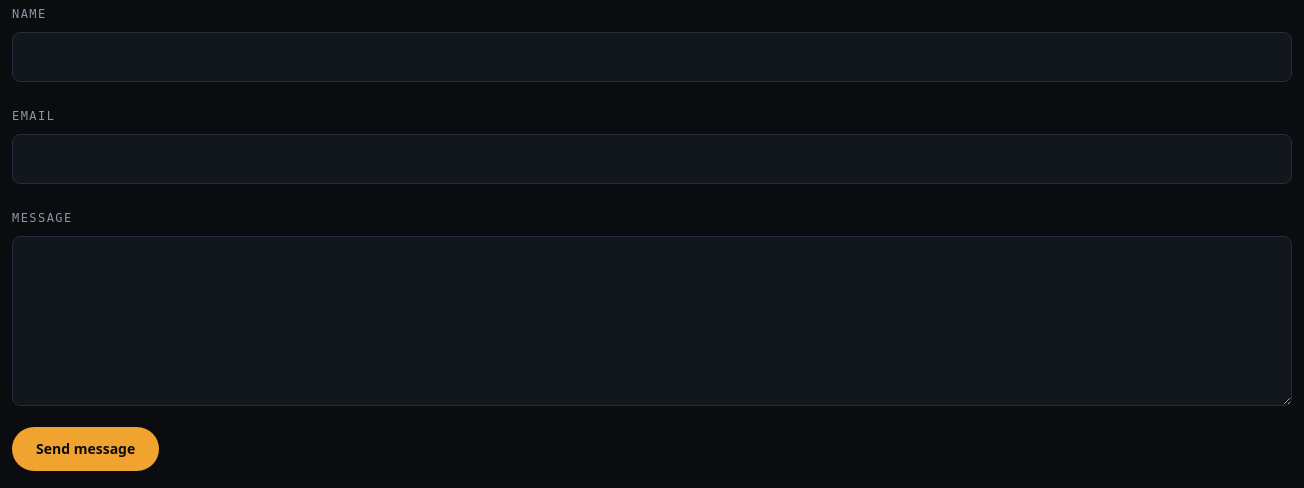
Scenario: ContactForm › sends the filled-in values and shows the success state
Type "Rita Halim" into the field labelled "Name" at (652, 57), box [12,32,1292,82]
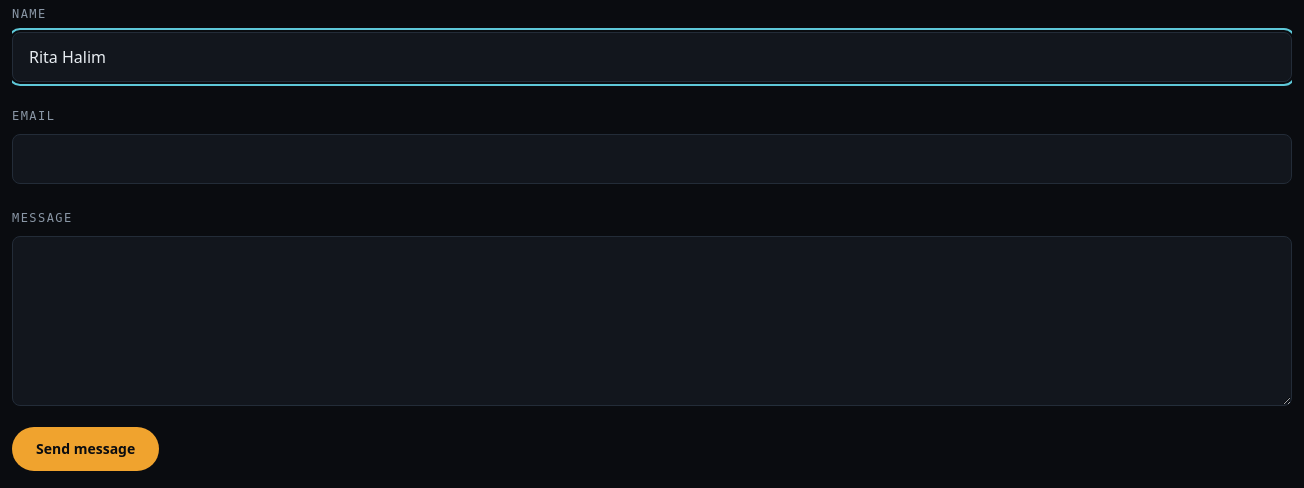
Type "rita@example.com" into the field labelled "Email" at (652, 159), box [12,134,1292,184]
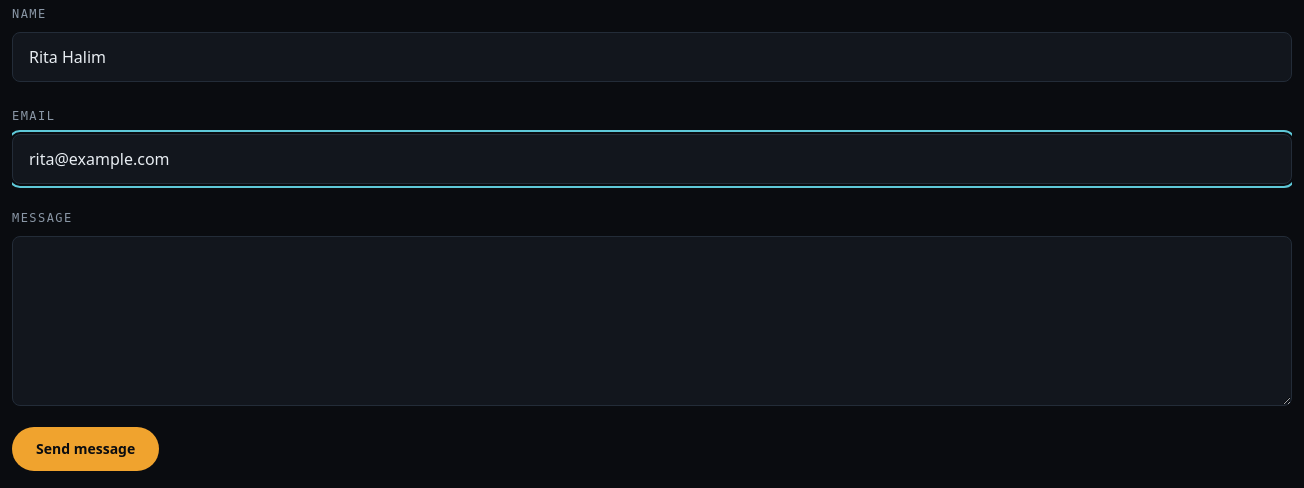
Type "I read your thesis work and would like to talk about an internship this year." into the text box labelled "Message" at (652, 321), box [12,236,1292,406]
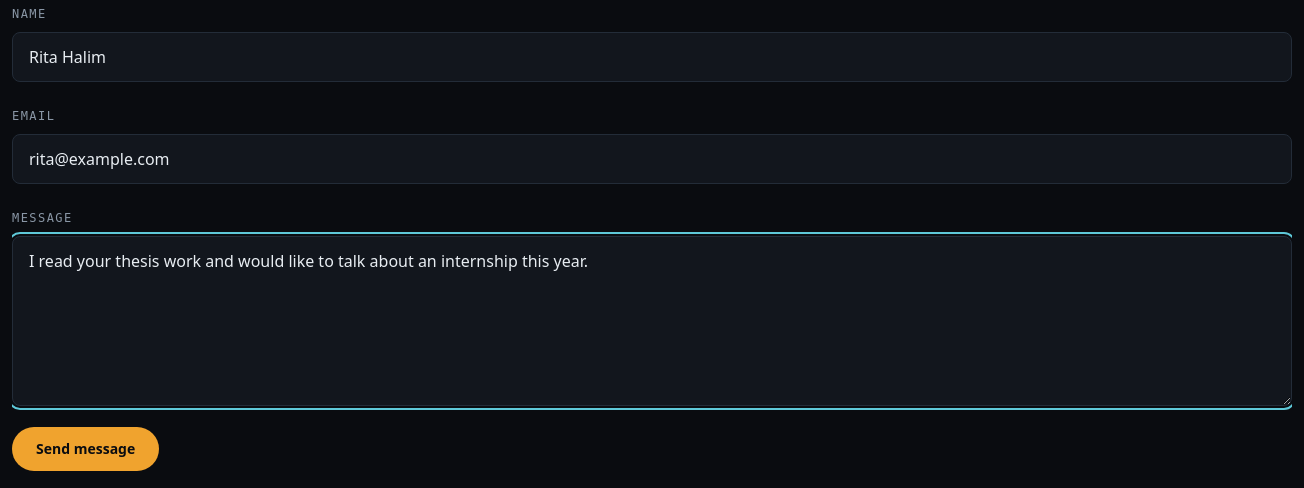
Click the button "Send message" at (86, 449), box [12,427,159,471]
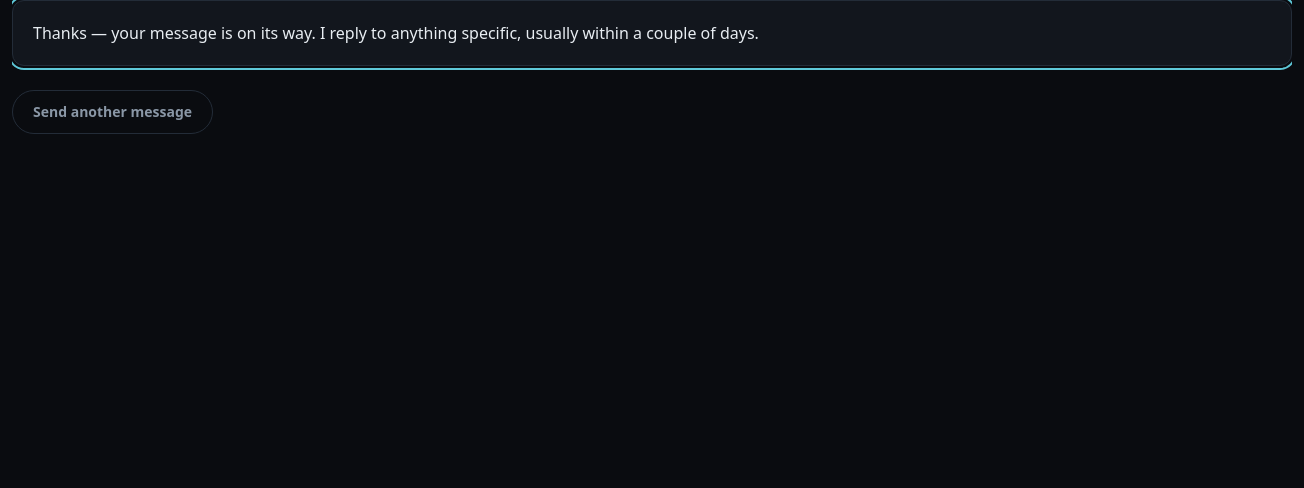
Result: the text "on its way" is shown at [33,22,759,44]
